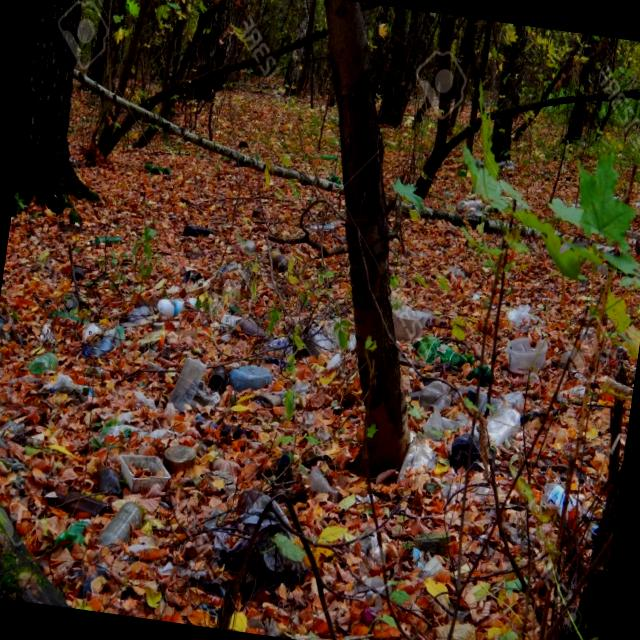garbage: (25, 251, 595, 640)
